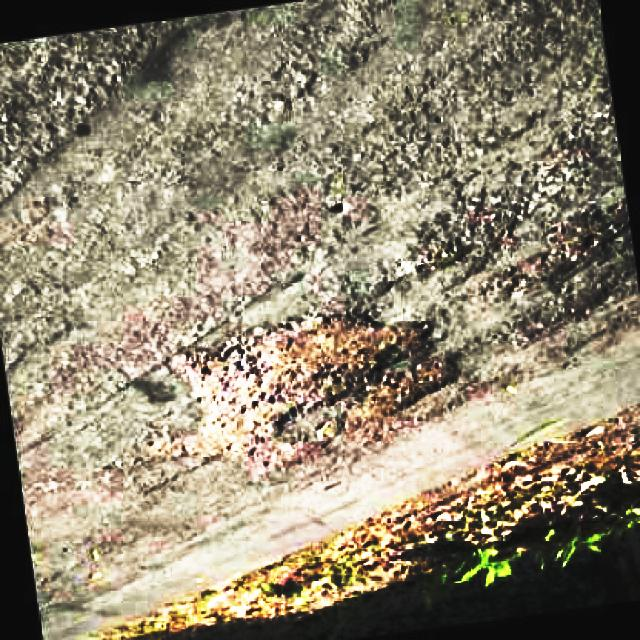pothole: (156, 304, 462, 468), (506, 203, 634, 315)
